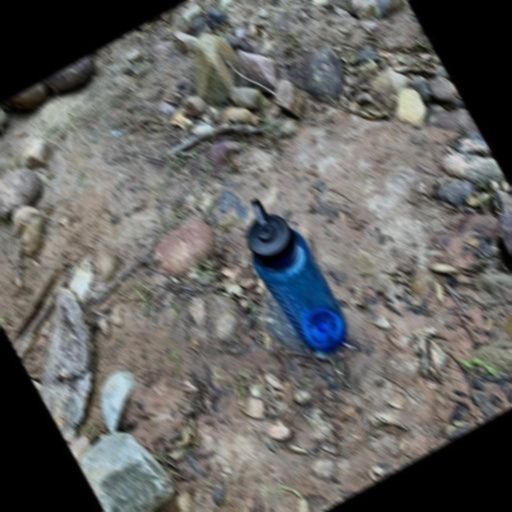bottle: (225, 187, 357, 363)
